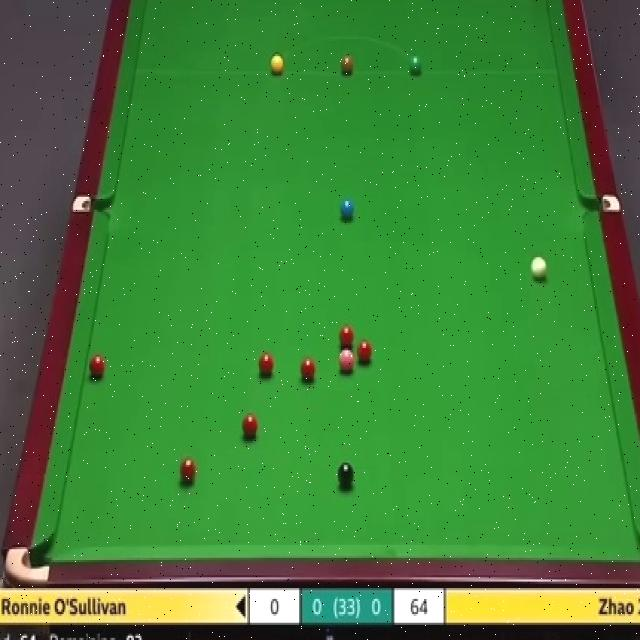black-ball: (338, 460, 355, 490)
blue-ball: (341, 199, 355, 223)
brown-ball: (341, 57, 354, 76)
green-ball: (410, 54, 422, 76)
pink-ball: (337, 347, 355, 375)
red-ball: (87, 353, 108, 380), (338, 321, 356, 348), (180, 457, 197, 485), (240, 413, 258, 439), (356, 336, 372, 363), (258, 352, 274, 378), (299, 358, 315, 382)
white-ball: (530, 257, 548, 281)
yellow-ball: (270, 53, 285, 76)
